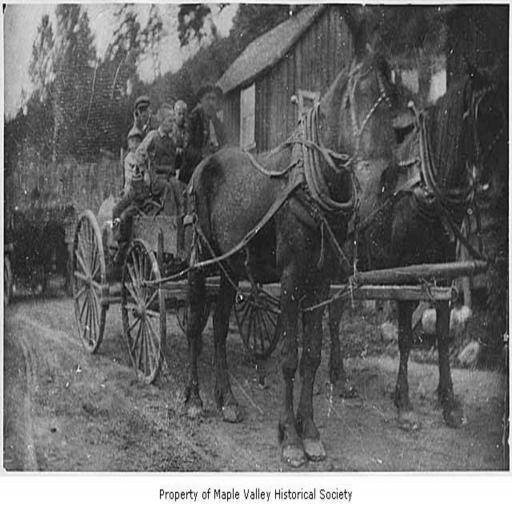horse: (183, 18, 399, 470), (326, 56, 506, 426)
